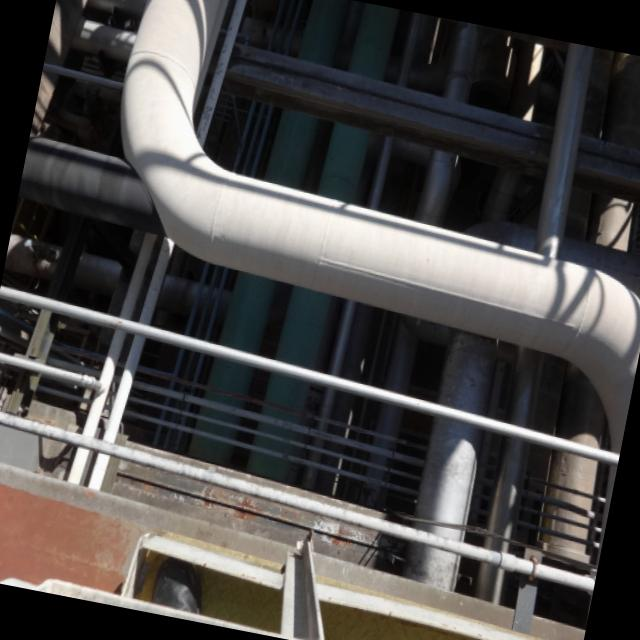gas: (139, 151, 640, 357), (66, 15, 640, 194), (236, 45, 640, 164), (401, 333, 500, 592), (105, 0, 232, 173), (242, 288, 342, 488), (178, 273, 276, 472), (369, 518, 599, 601), (259, 0, 349, 191), (476, 353, 546, 598), (319, 1, 402, 202), (160, 456, 378, 526), (533, 42, 595, 255), (0, 396, 170, 471), (0, 345, 108, 398)
